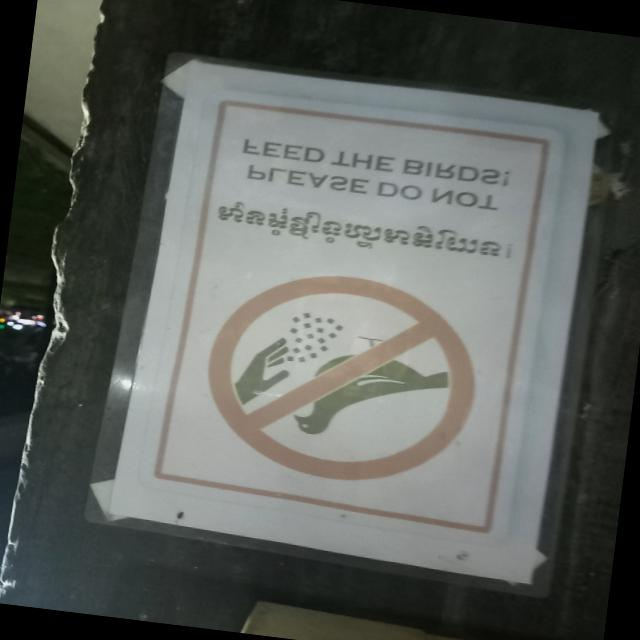Yolov11kh: (212, 191, 521, 271)
